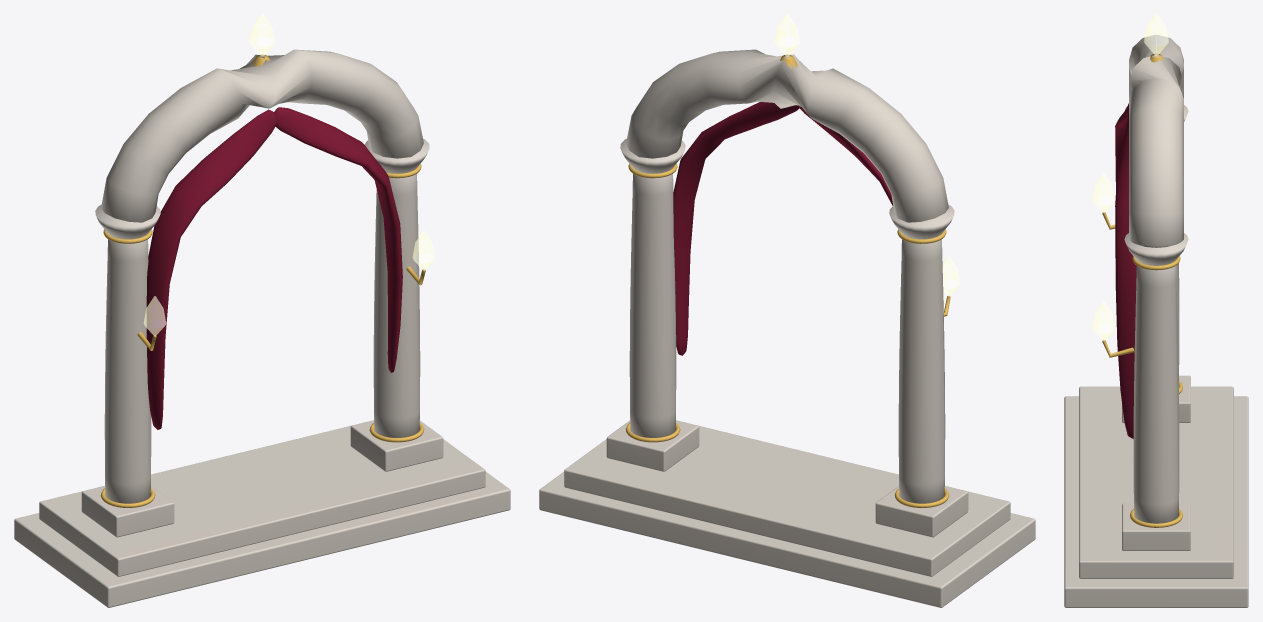
The model's file is webtoon-imperial-banquet-alcove-arch-v18.glb.
The picture shows the model from 3 angles, left to right: view 1: azimuth 30°, elevation 25°; view 2: azimuth 150°, elevation 25°; view 3: azimuth 270°, elevation 25°; orthographic projection. The views are drawn at different scales.
Visible parts, largest first — view 1: BanquetAlabasterColonnadeArch, BanquetVelvetCurtainSwag, BanquetDispersionCrystalSconces, BanquetGoldTrimAndSconces; view 2: BanquetAlabasterColonnadeArch, BanquetVelvetCurtainSwag, BanquetGoldTrimAndSconces, BanquetDispersionCrystalSconces; view 3: BanquetAlabasterColonnadeArch, BanquetVelvetCurtainSwag, BanquetDispersionCrystalSconces, BanquetGoldTrimAndSconces.
Boxes of the visible parts, x1,y1,x2,y2 form: BanquetAlabasterColonnadeArch: (14,49,510,607); BanquetVelvetCurtainSwag: (146,107,402,429); BanquetDispersionCrystalSconces: (144,14,435,335); BanquetGoldTrimAndSconces: (100,55,425,507); BanquetAlabasterColonnadeArch: (539,49,1035,607); BanquetVelvetCurtainSwag: (673,102,892,355); BanquetGoldTrimAndSconces: (625,55,950,507); BanquetDispersionCrystalSconces: (774,14,960,296); BanquetAlabasterColonnadeArch: (1064,35,1248,607); BanquetVelvetCurtainSwag: (1115,103,1136,438); BanquetDispersionCrystalSconces: (1093,14,1168,340); BanquetGoldTrimAndSconces: (1102,54,1182,527).
Size of the model in its own units: 2.76 by 3.34 by 1.12.
